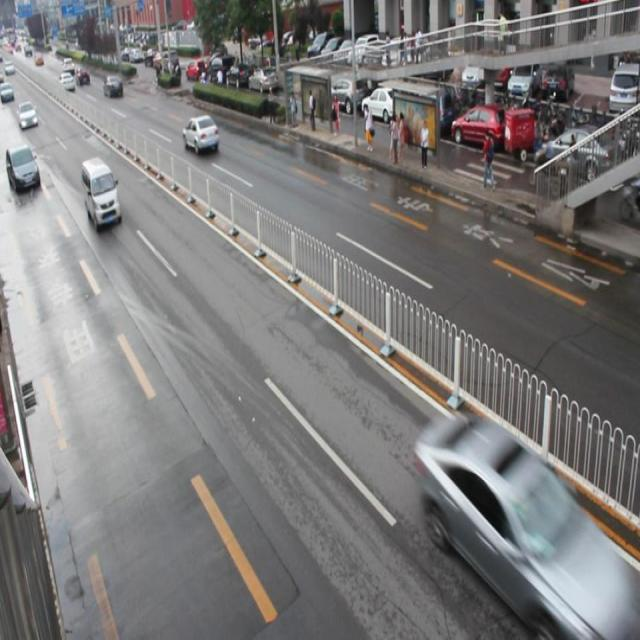car: (415, 417, 604, 626), (182, 112, 219, 153)
truck: (82, 156, 122, 229), (1, 144, 40, 196)
